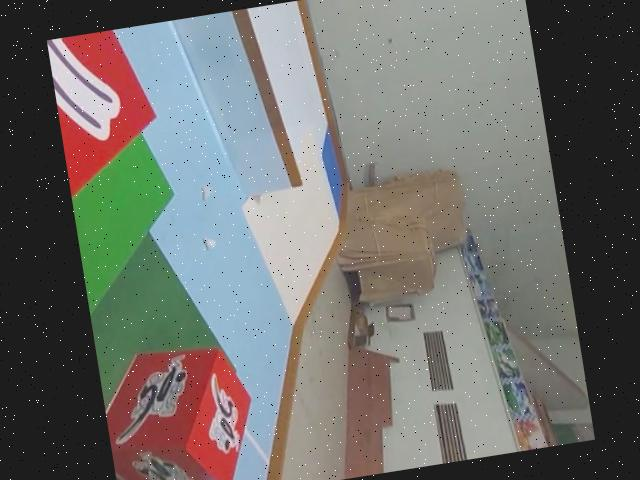R1: (96, 337, 269, 480)
R2 Fake: (46, 25, 169, 200)
